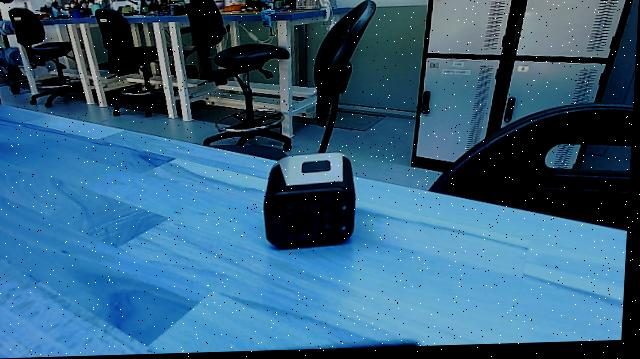adapter: (258, 153, 367, 254)
